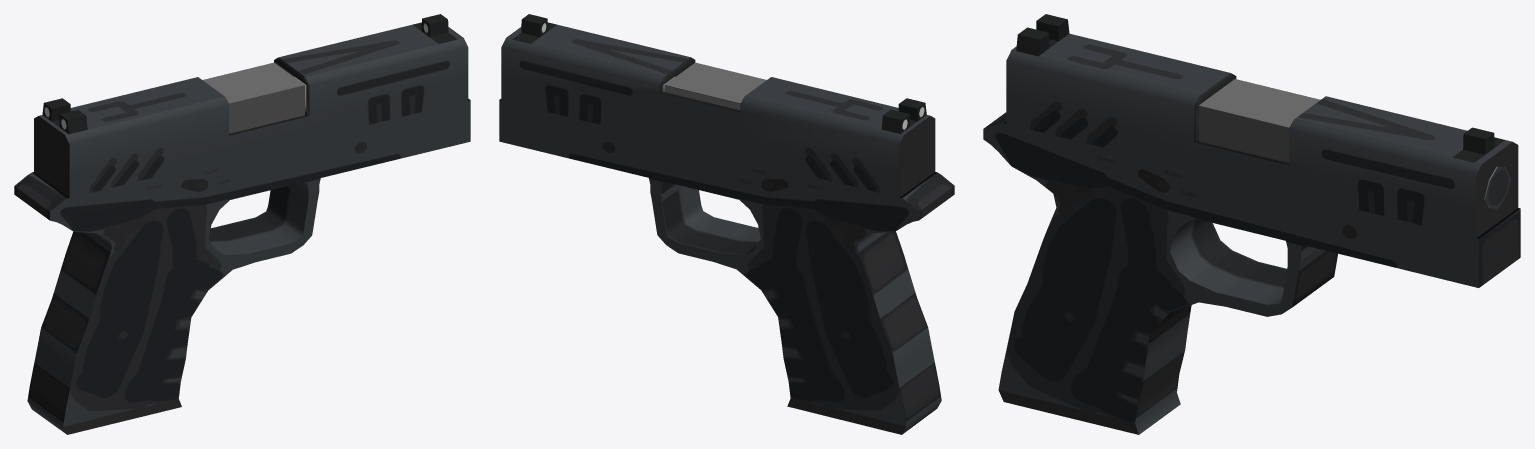
Rendered from PistolFinal.fbx.
3 views of the same model, side by side, from view 1: azimuth 30°, elevation 25°; view 2: azimuth 150°, elevation 25°; view 3: azimuth 330°, elevation 25° (orthographic). The views are drawn at different scales.
Parts seen in each view (by area): view 1: Pistol, PistolSlide; view 2: Pistol, PistolSlide; view 3: Pistol, PistolSlide.
Boxes of the visible parts, bbox=[...] form: Pistol: bbox=[14, 62, 470, 434]; PistolSlide: bbox=[34, 14, 468, 197]; Pistol: bbox=[499, 62, 954, 434]; PistolSlide: bbox=[501, 14, 935, 197]; Pistol: bbox=[983, 79, 1520, 434]; PistolSlide: bbox=[1006, 14, 1518, 238].
Bounding box in the file's own units: 6.83 × 4.8 × 1.
Materials: 2 (2 with a texture image).
